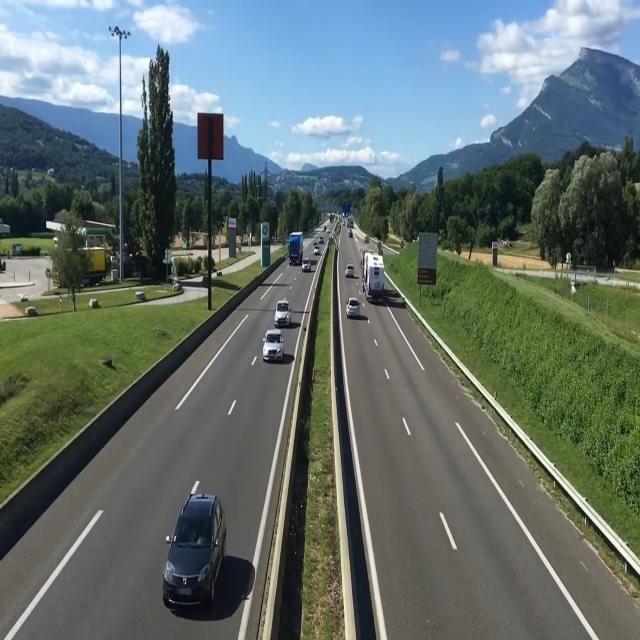car: (166, 482, 230, 618), (263, 325, 285, 369), (272, 297, 292, 329), (345, 295, 361, 319), (342, 262, 356, 280), (302, 258, 312, 274)
truck: (361, 243, 392, 312), (286, 232, 305, 266)
